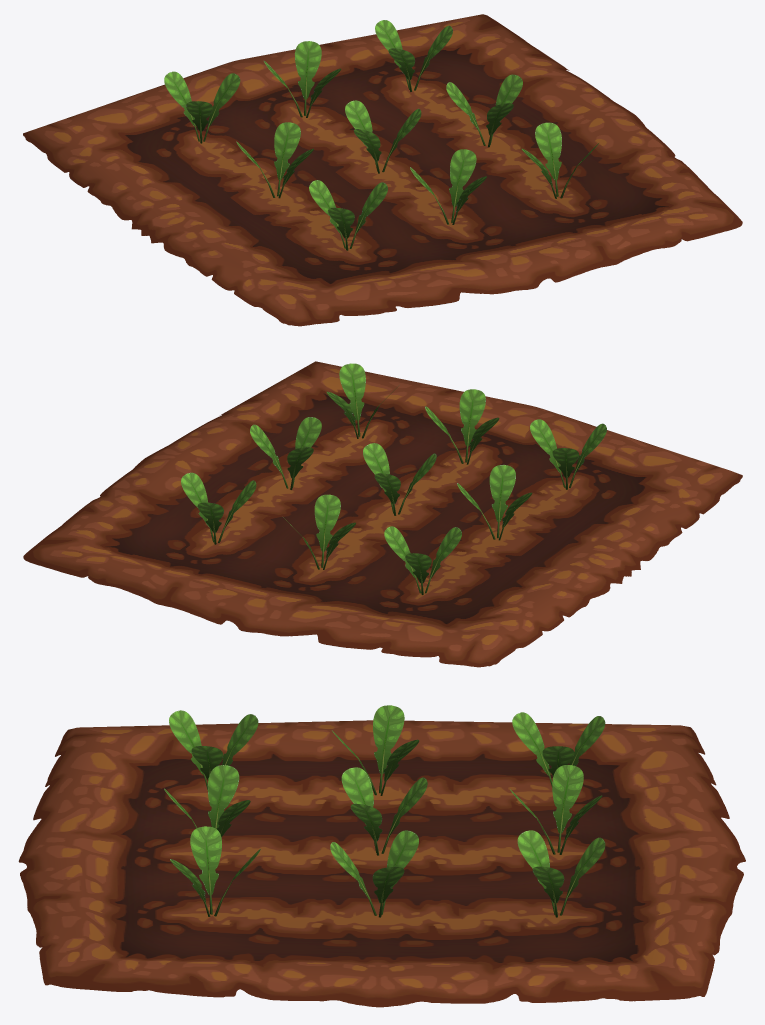
Rendered from Radish_Field_Lv1.FBX.
3 renders of one model, top to bottom at view 1: azimuth 30°, elevation 25°; view 2: azimuth 150°, elevation 25°; view 3: azimuth 270°, elevation 25°, orthographic. The views are drawn at different scales.
Visible parts, largest first — view 1: Radish_Field_Lv1; view 2: Radish_Field_Lv1; view 3: Radish_Field_Lv1.
Part boxes in pixels (x1,y1,x2,y2): Radish_Field_Lv1: [23, 14, 742, 326]; Radish_Field_Lv1: [23, 361, 742, 667]; Radish_Field_Lv1: [18, 705, 745, 1007].
Bounding box in the file's own units: 274 × 34.53 × 296.
